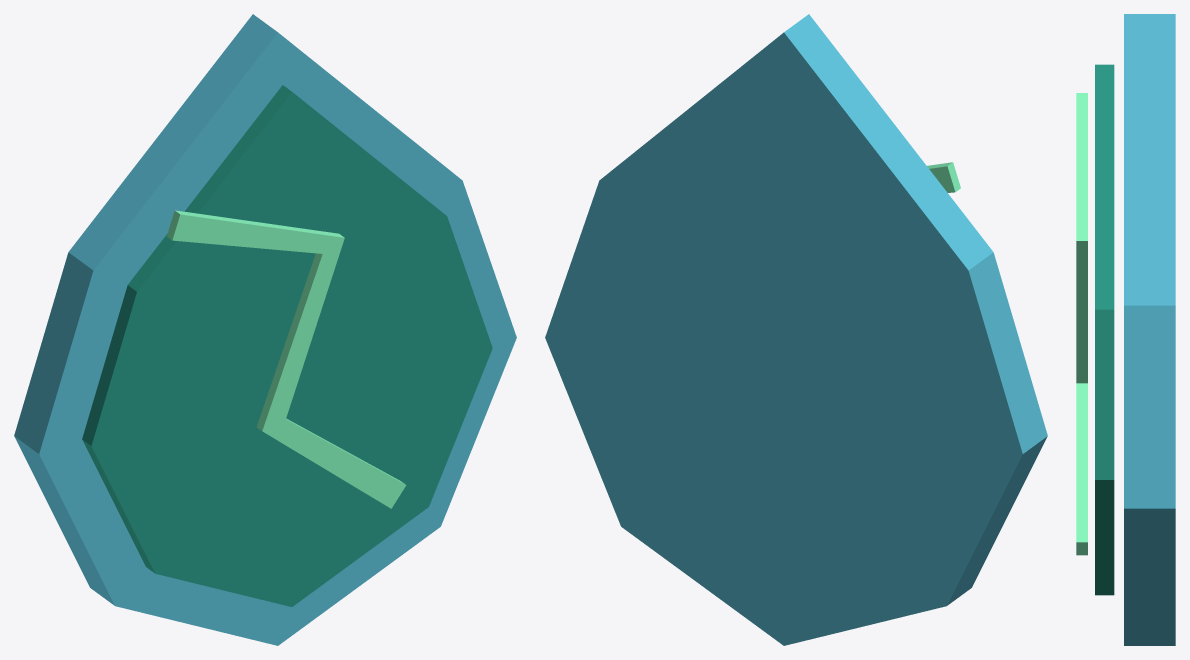
The model's file is water_drop.obj.
3 renders of one model, left to right at view 1: azimuth 30°, elevation 25°; view 2: azimuth 150°, elevation 25°; view 3: azimuth 270°, elevation 25°, orthographic. The views are drawn at different scales.
Parts seen in each view (by area): view 1: water_drop_inner, water_drop_surface, water_drop_surface_edge, water_glint, water_drop_inner_edge, water_glint_edge; view 2: water_drop_surface, water_drop_surface_edge; view 3: water_drop_surface_edge, water_drop_inner_edge, water_glint_edge.
Boxes of the visible parts, left/top/right/bottom form: water_drop_inner: left=91, top=92, right=492, bottom=606; water_drop_surface: left=39, top=32, right=516, bottom=645; water_drop_surface_edge: left=14, top=14, right=277, bottom=605; water_glint: left=172, top=214, right=406, bottom=508; water_drop_inner_edge: left=82, top=85, right=291, bottom=573; water_glint_edge: left=166, top=210, right=404, bottom=483; water_drop_surface: left=545, top=32, right=1022, bottom=645; water_drop_surface_edge: left=784, top=14, right=1047, bottom=605; water_drop_surface_edge: left=1124, top=14, right=1175, bottom=645; water_drop_inner_edge: left=1095, top=64, right=1114, bottom=595; water_glint_edge: left=1076, top=93, right=1087, bottom=555.
Size of the model in its own units: 0.88 by 1.08 by 0.154.
